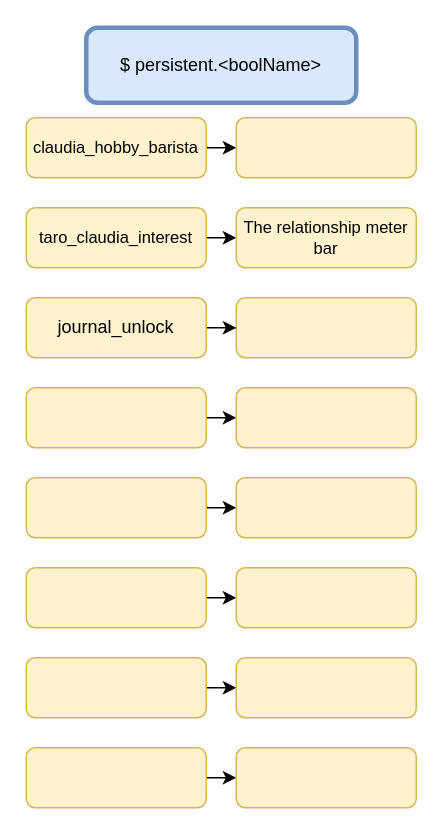
The diagram is 443 pixels wide and 834 high, and some of its shapes have lost their labels. Here are the shapes that lost their labels. From the top down, the centre of each, then its label:
pixel 325 147: Player learns Claudia's hobby is being a barista
pixel 325 327: Displays the "journal" button on quick_menu
